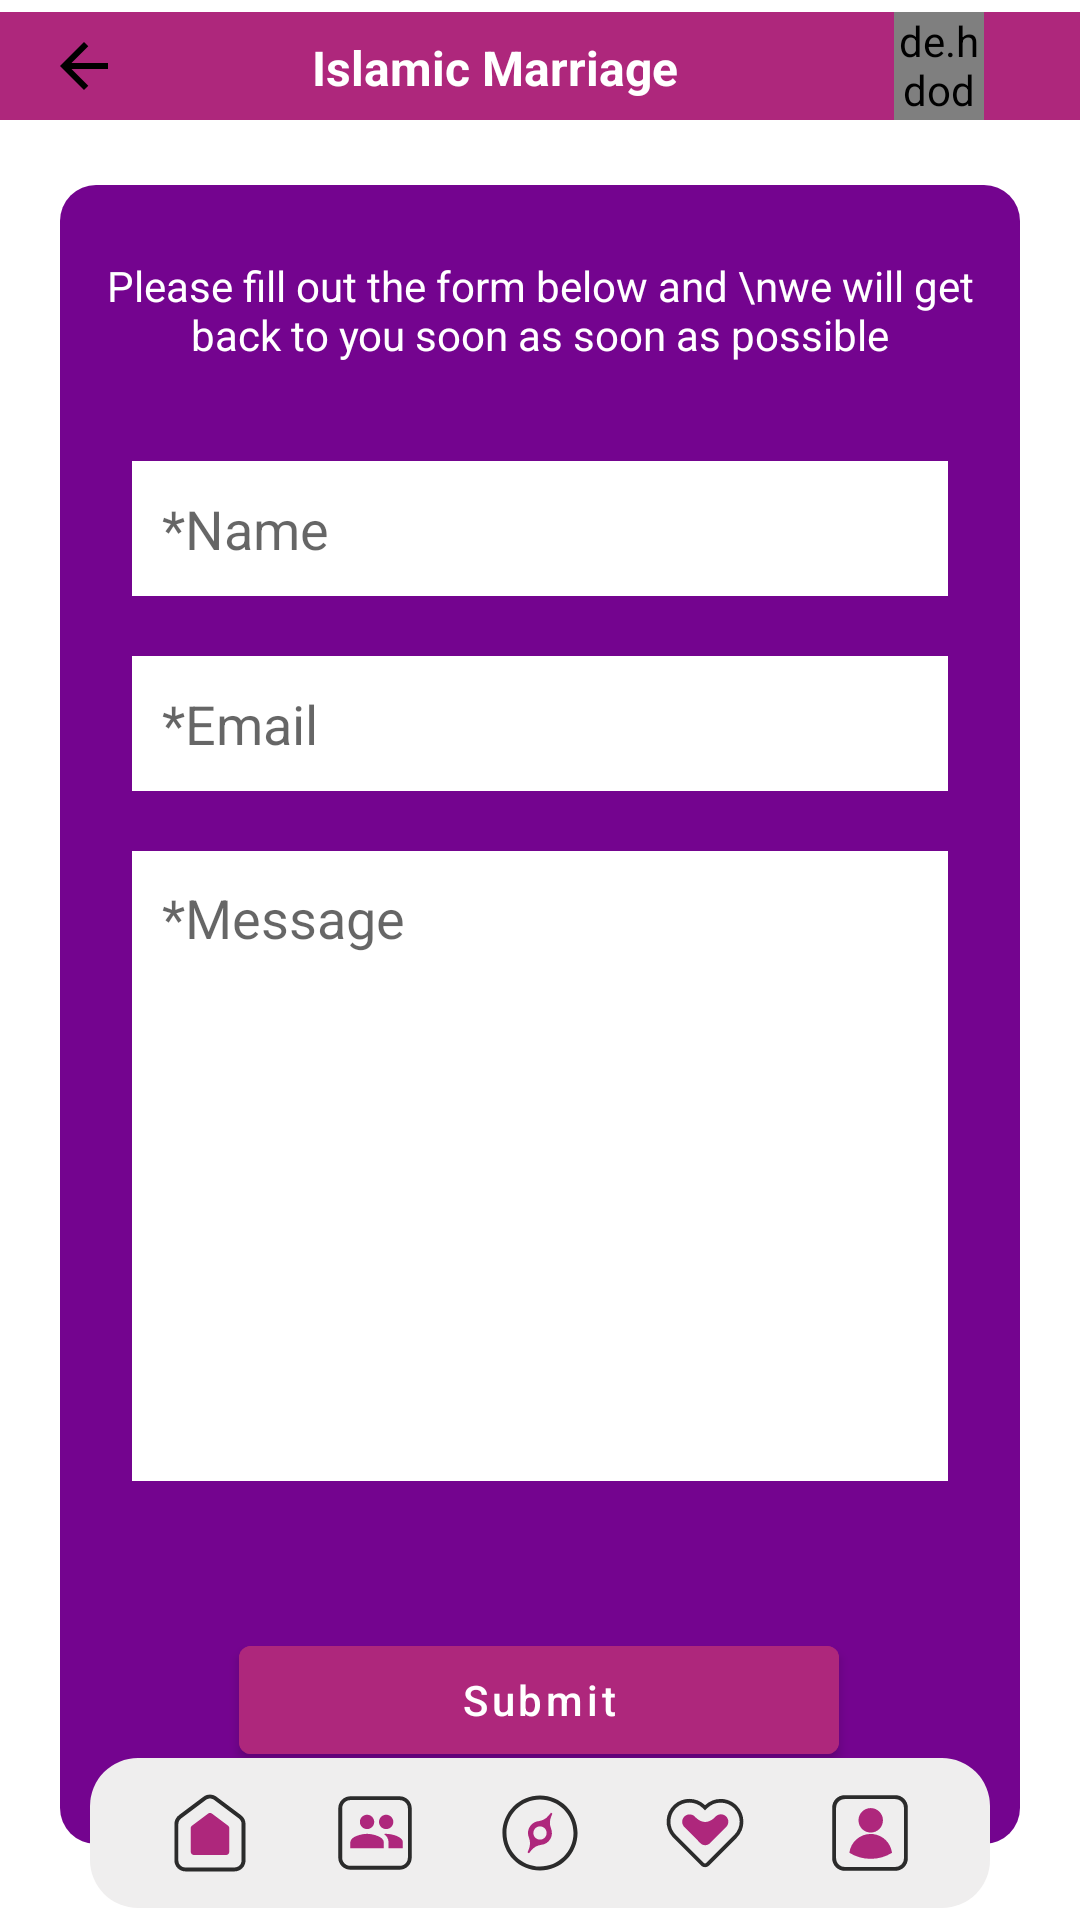

Locate icon controls on the screen. Image size 1080px x 1920px, boxes as BBox(x1, y1, x2, y2).
arro backs: BBox(60, 42, 108, 90)
home: BBox(174, 1794, 246, 1872)
